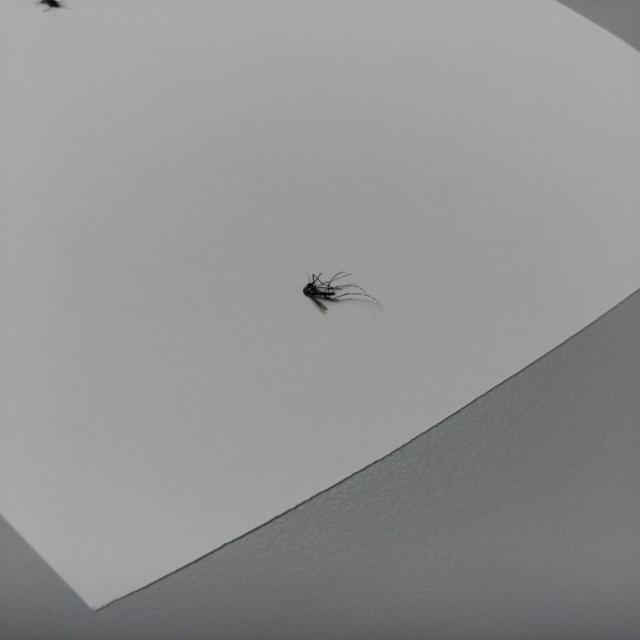albopictus: (292, 266, 380, 318)
